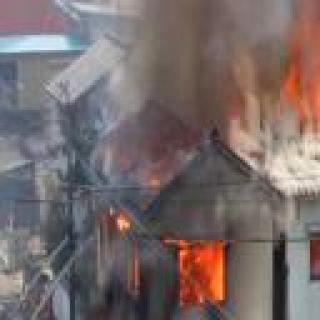fire: (85, 208, 291, 320), (285, 33, 320, 133), (309, 230, 320, 277)
